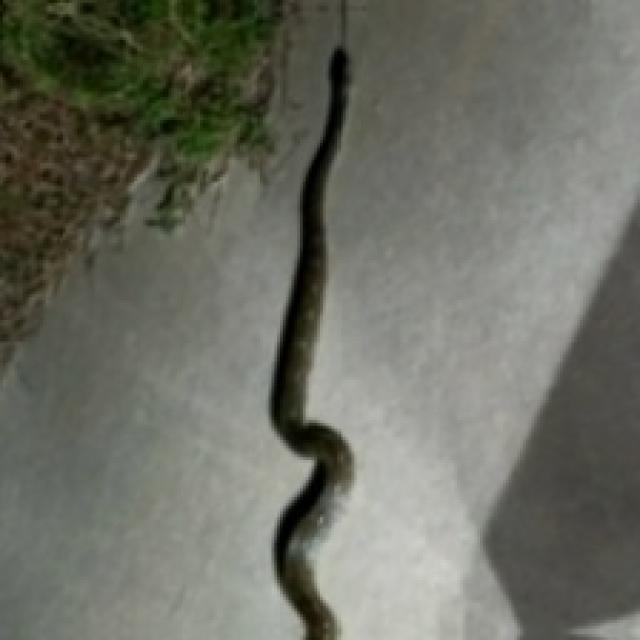reticulated python: (271, 46, 351, 637)
